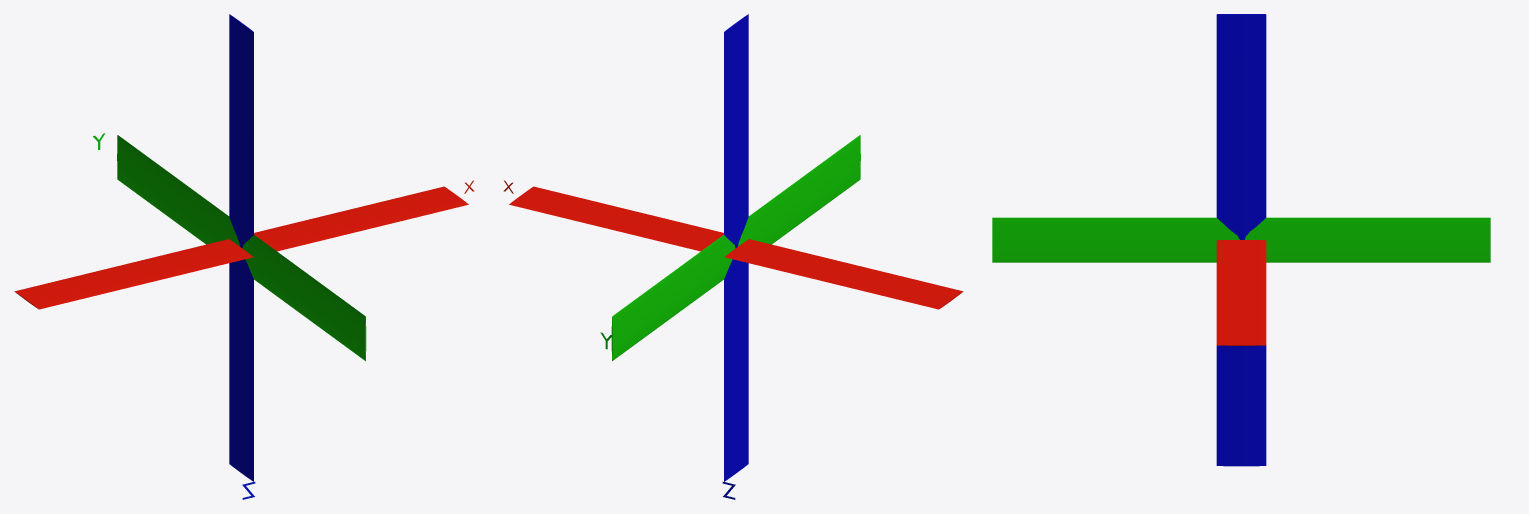
File: eixos.glb
3 renders of one model, left to right at view 1: azimuth 30°, elevation 25°; view 2: azimuth 150°, elevation 25°; view 3: azimuth 270°, elevation 25°, orthographic.
Visible parts, largest first — view 1: Cilindro, Cilindro.002, Cilindro.001; view 2: Cilindro, Cilindro.002, Cilindro.001; view 3: Cilindro.002, Cilindro, Cilindro.001.
Boxes of the visible parts, x1=… form: Cilindro: x1=229, y1=14, x2=253, y2=481; Cilindro.002: x1=117, y1=135, x2=366, y2=360; Cilindro.001: x1=14, y1=186, x2=468, y2=309; Cilindro: x1=724, y1=14, x2=748, y2=481; Cilindro.002: x1=611, y1=135, x2=860, y2=360; Cilindro.001: x1=509, y1=186, x2=963, y2=309; Cilindro.002: x1=992, y1=217, x2=1490, y2=262; Cilindro: x1=1216, y1=14, x2=1266, y2=466; Cilindro.001: x1=1216, y1=240, x2=1266, y2=345.
Bounding box in the file's own units: 20.84 × 21.21 × 20.97.
